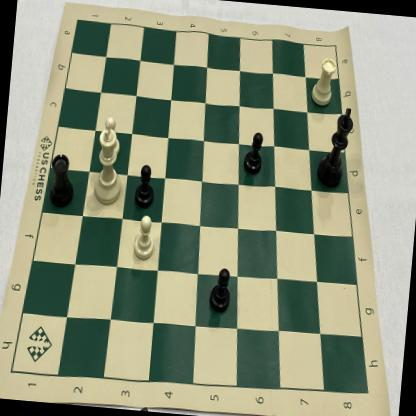king: (312, 99, 358, 196), (83, 120, 130, 210)
pawn: (238, 121, 270, 183), (203, 262, 237, 320), (130, 154, 160, 214), (129, 212, 162, 266), (94, 113, 126, 165)
rook: (38, 143, 80, 211), (306, 52, 340, 114)
